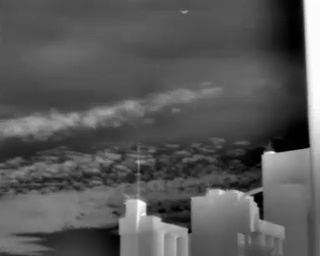BIRD: (179, 7, 190, 17)
